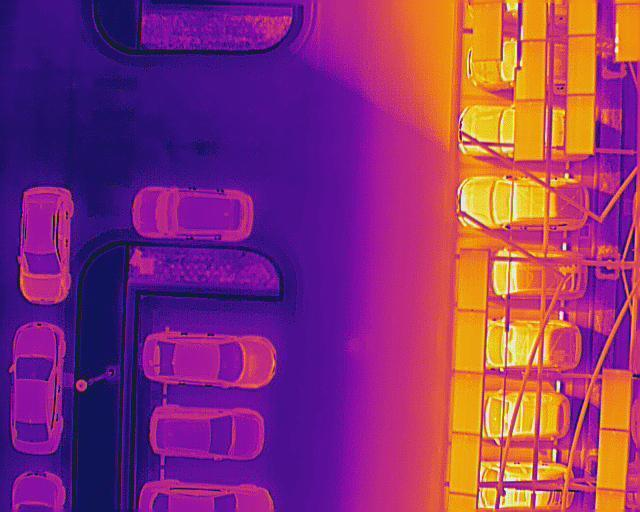No-Anomaly: (458, 250, 489, 313), (514, 100, 545, 160), (455, 310, 484, 373), (454, 372, 483, 435), (598, 430, 627, 491), (473, 3, 503, 61), (566, 95, 595, 154), (451, 434, 479, 495), (602, 370, 630, 430), (568, 35, 595, 96), (523, 41, 547, 98)
Unclassified: (614, 3, 640, 62)
